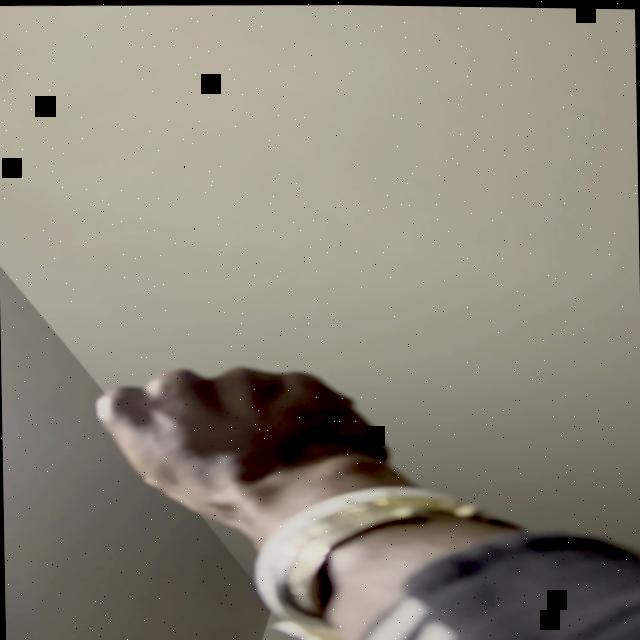Rock: (92, 359, 396, 530)
